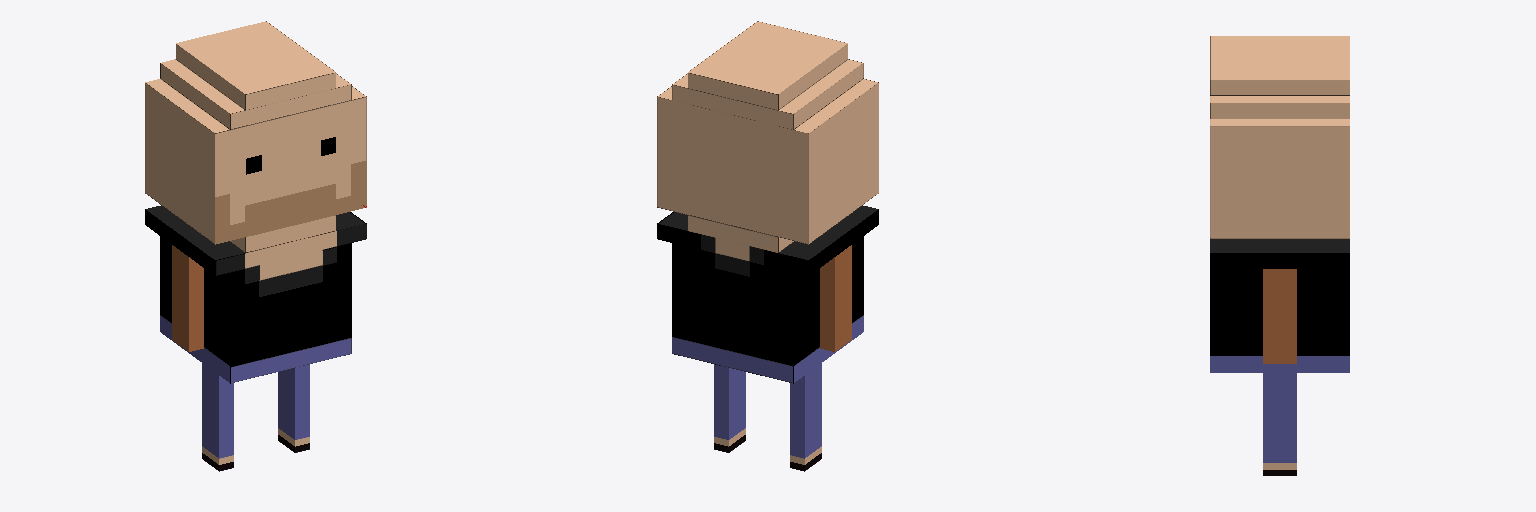
The picture shows the model from 3 angles: view 1: azimuth 30°, elevation 25°; view 2: azimuth 150°, elevation 25°; view 3: azimuth 270°, elevation 25°; orthographic projection.
Parts seen in each view (by area): view 1: cabeza_Plane.003, body_Plane.001, leg.r_Plane.002, arm.r_Plane.007, leg.l_Plane.005; view 2: cabeza_Plane.003, body_Plane.001, leg.r_Plane.002, arm.r_Plane.007, leg.l_Plane.005; view 3: cabeza_Plane.003, body_Plane.001, leg.l_Plane.005, arm.l_Plane.006.
Boxes of the visible parts, x1=… form: cabeza_Plane.003: x1=145, y1=21, x2=366, y2=252; body_Plane.001: x1=145, y1=205, x2=366, y2=383; leg.r_Plane.002: x1=202, y1=363, x2=233, y2=471; arm.r_Plane.007: x1=172, y1=245, x2=203, y2=351; leg.l_Plane.005: x1=278, y1=364, x2=309, y2=452; cabeza_Plane.003: x1=657, y1=21, x2=878, y2=252; body_Plane.001: x1=657, y1=205, x2=878, y2=383; leg.r_Plane.002: x1=790, y1=363, x2=821, y2=471; arm.r_Plane.007: x1=820, y1=245, x2=851, y2=351; leg.l_Plane.005: x1=714, y1=364, x2=745, y2=452; cabeza_Plane.003: x1=1210, y1=36, x2=1349, y2=238; body_Plane.001: x1=1210, y1=239, x2=1349, y2=372; leg.l_Plane.005: x1=1263, y1=373, x2=1296, y2=475; arm.l_Plane.006: x1=1263, y1=269, x2=1296, y2=363.
Size of the model in its own units: 1 by 2.5 by 0.8.
Materials: 4 (3 with a texture image).